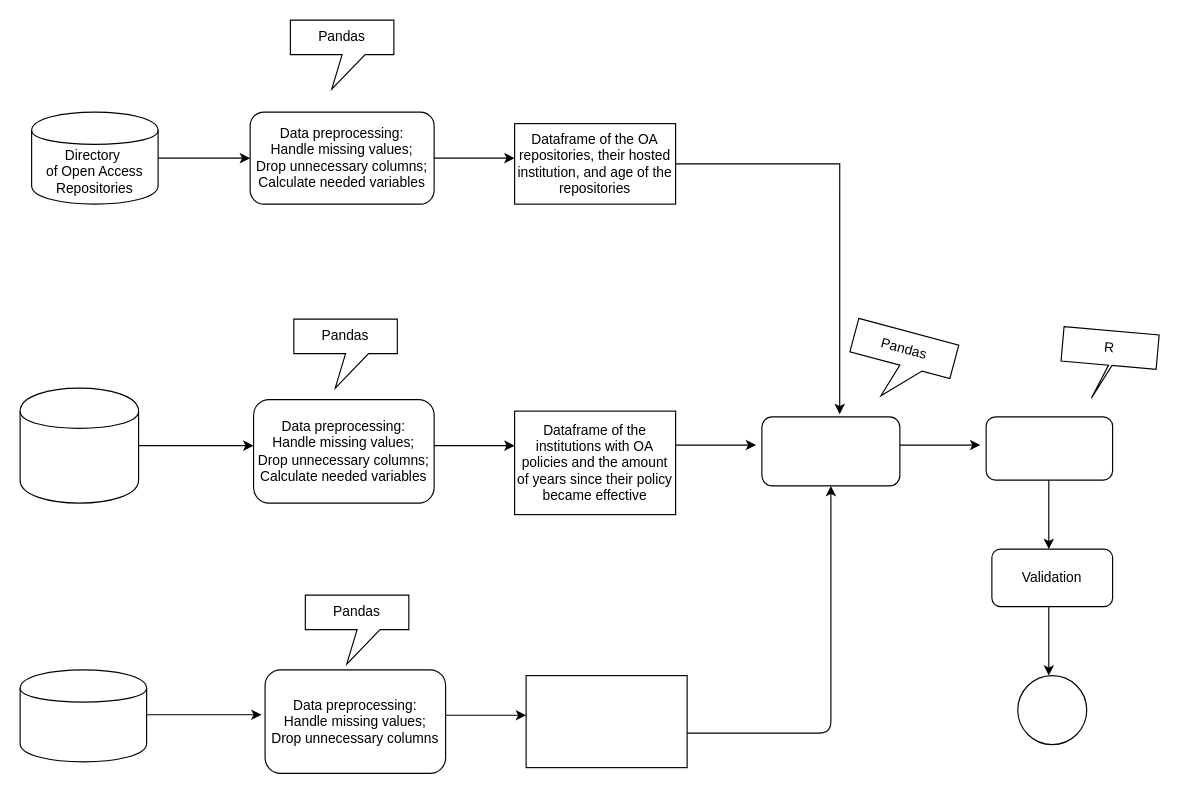
The diagram is 1180 pixels wide and 794 high, and some of its shapes have lost their labels. Here are the shapes that lost their labels. From the top down, the centre of each, then its label:
At pixel 79 445: "The Registry of Open Access Mandates and Policies".
At pixel 830 451: "Merge datasets".
At pixel 1049 448: "Linear regression".
At pixel 83 715: "University Ranking by Citation Impact".
At pixel 606 721: "Dataframe of the institutions and their citation index".
At pixel 1052 709: "end".
